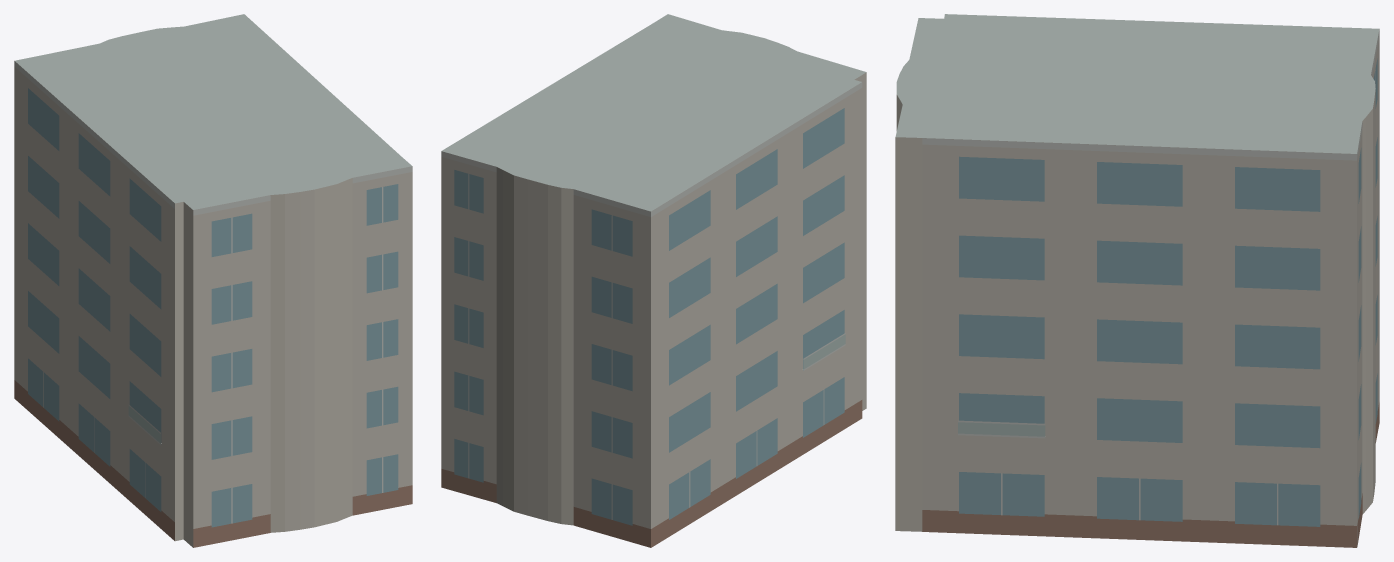
The model's file is survey-upis-32833649.glb.
The picture shows the model from 3 angles, left to right: view 1: azimuth 30°, elevation 25°; view 2: azimuth 150°, elevation 25°; view 3: azimuth 270°, elevation 25°; orthographic projection. The views are drawn at different scales.
Parts seen in each view (by area): view 1: survey-upis-32833649.tmp; view 2: survey-upis-32833649.tmp; view 3: survey-upis-32833649.tmp.
Boxes of the visible parts, box(x1,y1,x2,y2) form: survey-upis-32833649.tmp: box(14, 14, 412, 547); survey-upis-32833649.tmp: box(441, 14, 866, 547); survey-upis-32833649.tmp: box(895, 14, 1379, 547).
Size of the model in its own units: 11.07 by 14.5 by 16.16.
